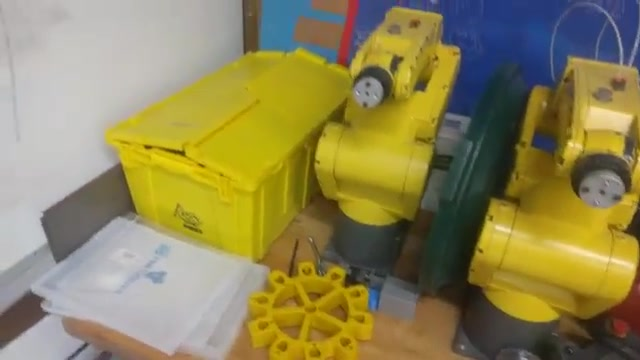gear: (244, 269, 373, 360)
